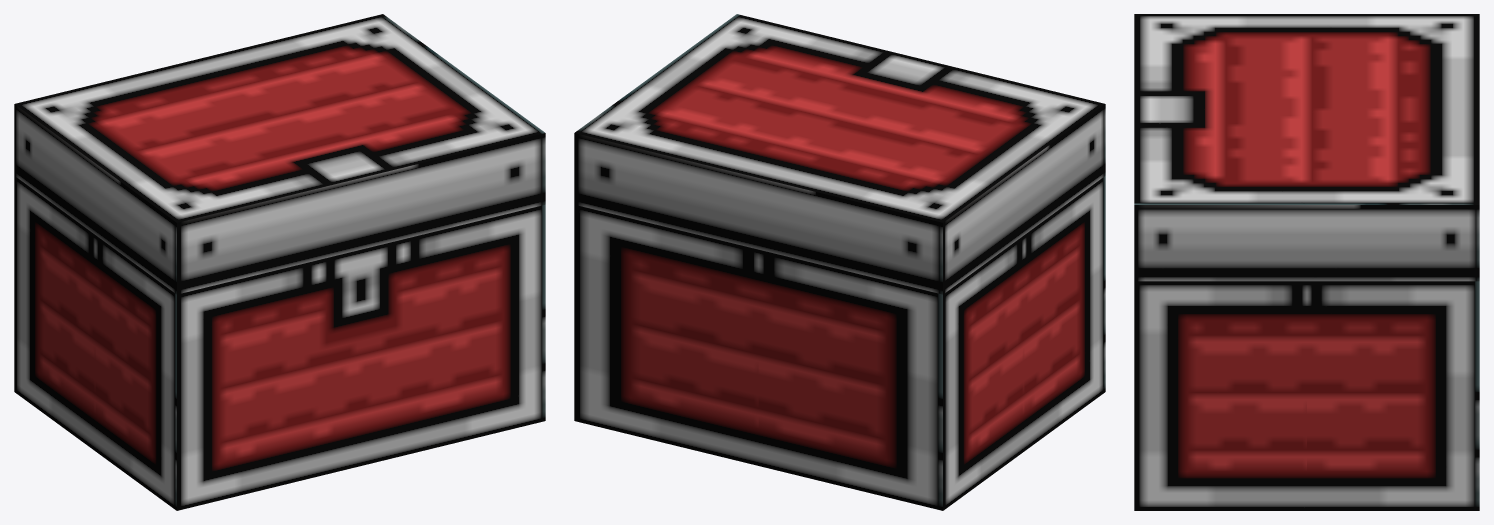
The model's file is deco_winter_chestSmallClosed.FBX.
The picture shows the model from 3 angles, left to right: view 1: azimuth 30°, elevation 25°; view 2: azimuth 150°, elevation 25°; view 3: azimuth 270°, elevation 25°; orthographic projection. The views are drawn at different scales.
Visible parts, largest first — view 1: deco_winter_chestSmallClosed; view 2: deco_winter_chestSmallClosed; view 3: deco_winter_chestSmallClosed.
Part boxes in pixels (bbox=[...]): deco_winter_chestSmallClosed: bbox=[14, 14, 545, 510]; deco_winter_chestSmallClosed: bbox=[574, 14, 1105, 510]; deco_winter_chestSmallClosed: bbox=[1134, 14, 1479, 510].
Size of the model in its own units: 1.55 by 1.16 by 1.18.
1 material, 1 textured.
